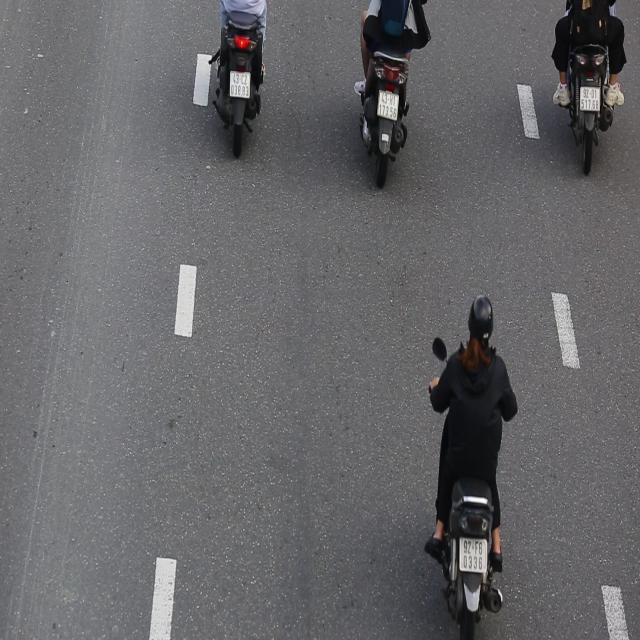motorbike: (426, 292, 518, 636)
